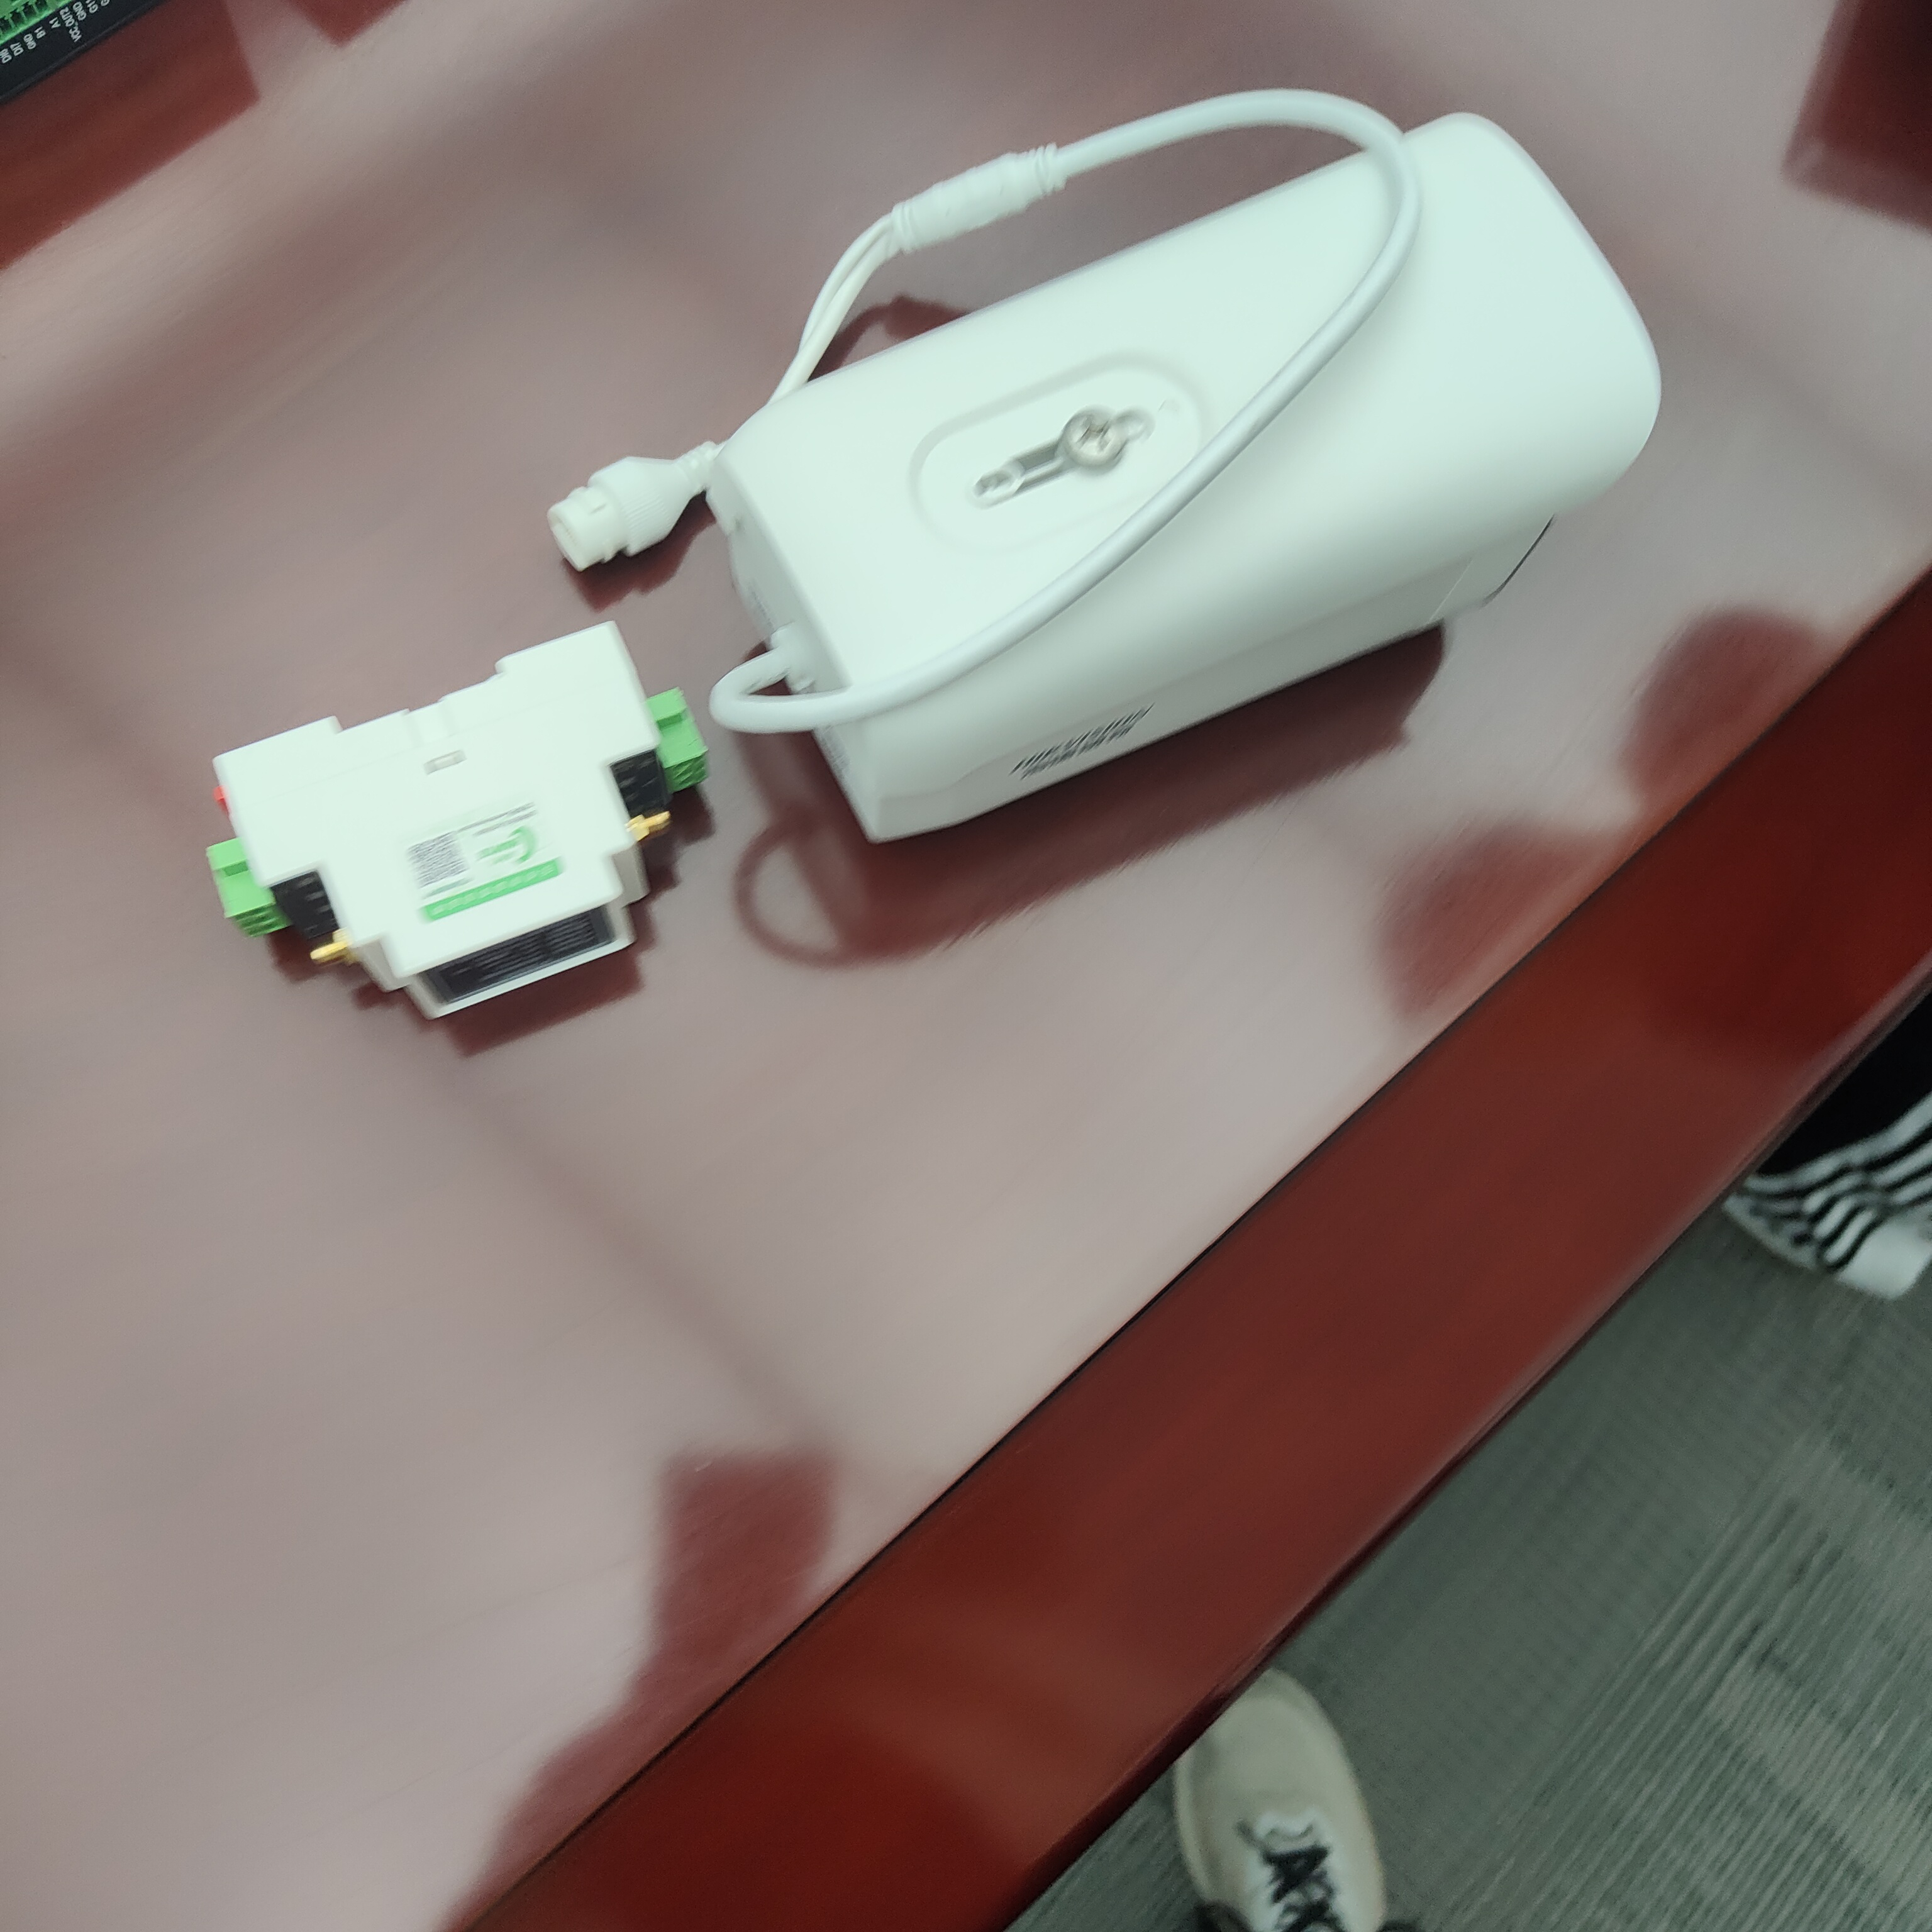dgjs: (189, 633, 727, 1005)
hkws: (697, 122, 1718, 858)
